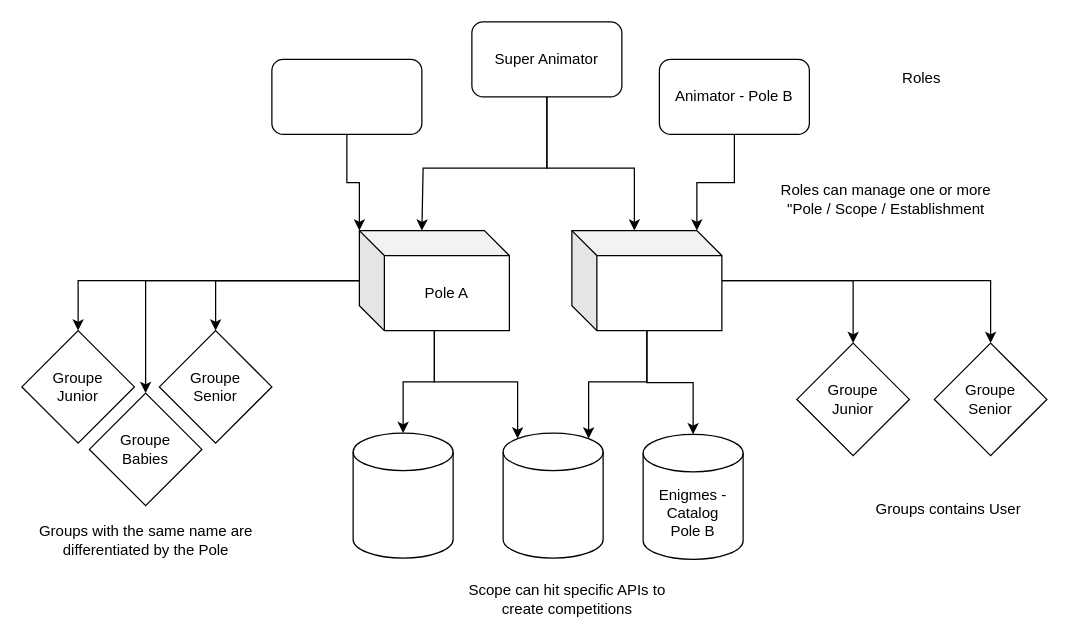
The diagram is 1085 pixels wide and 640 high, and some of its shapes have lost their labels. The shapes that lost their labels are listed below. From the top down, each one's centre as x and y in pixels, then its label:
point 346,96: Animator - Pole A
point 646,280: Pole B
point 402,495: Enigmes - Catalog Pole A
point 552,495: Enigmes - Catalog Christmas Theme
